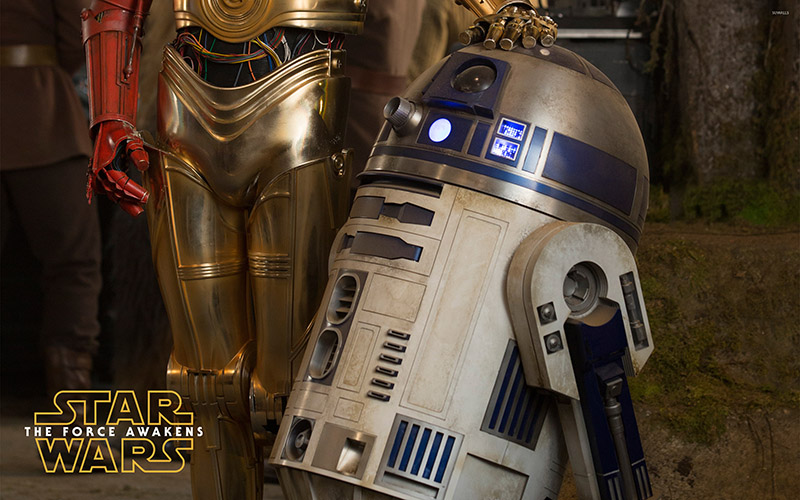r2d2: (267, 43, 655, 499)
